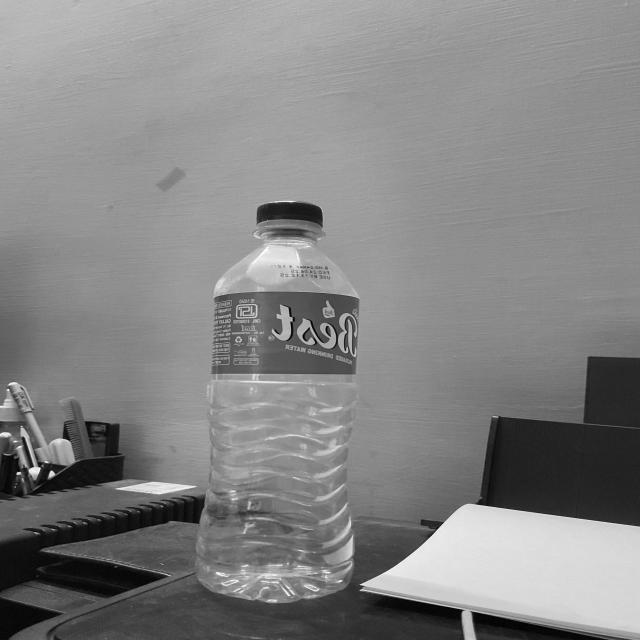Good-cap-Df0S: (251, 198, 326, 232)
